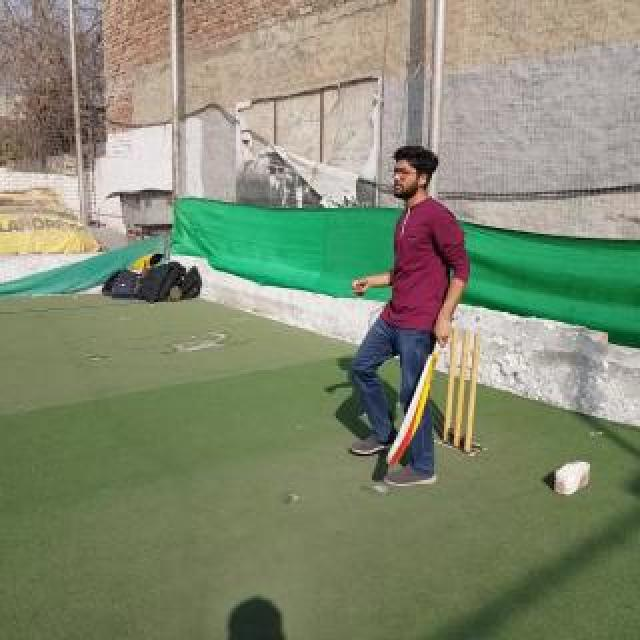bat: (386, 340, 440, 468)
